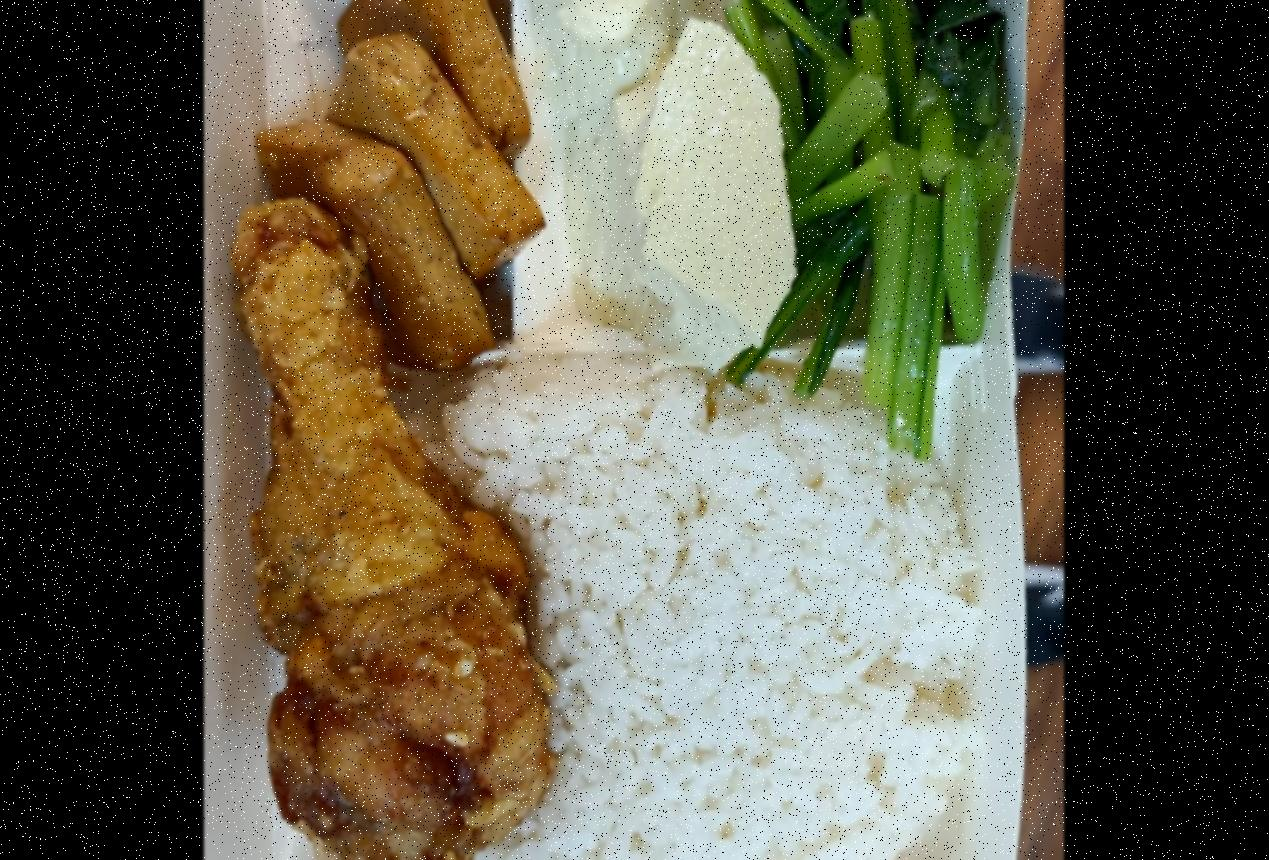box: (248, 0, 1047, 860)
side dish: (747, 0, 1018, 384), (265, 0, 539, 344), (533, 0, 793, 352)
small fried chicken leg: (222, 200, 552, 860)
white rice: (437, 359, 990, 860)
